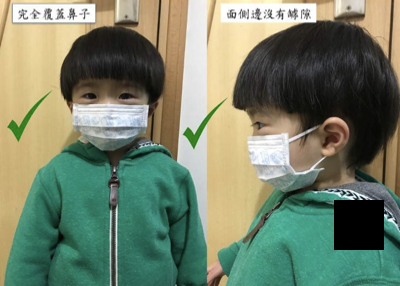with_mask: (246, 107, 326, 195), (71, 82, 151, 153)
